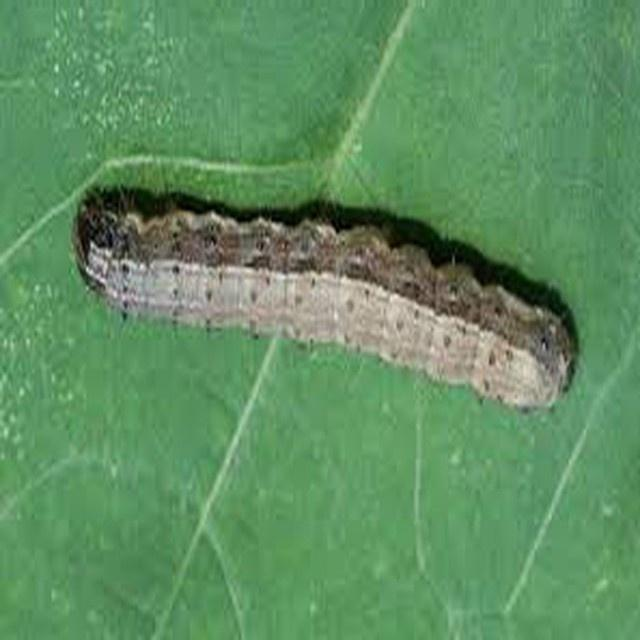gusano_cogollero: (74, 185, 574, 405)
